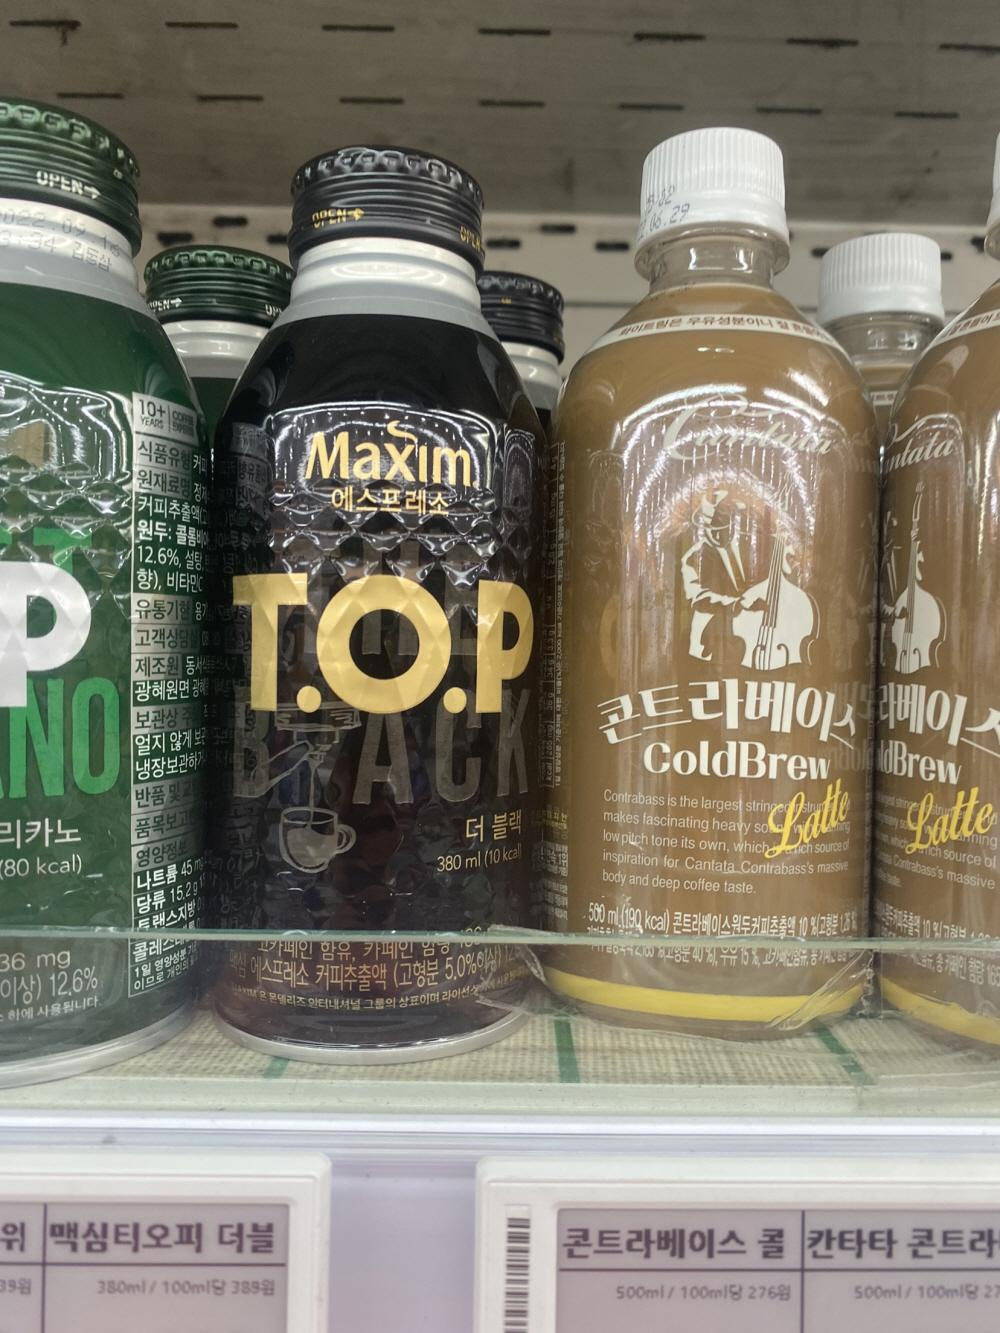TOP_black: (205, 131, 579, 1054)
